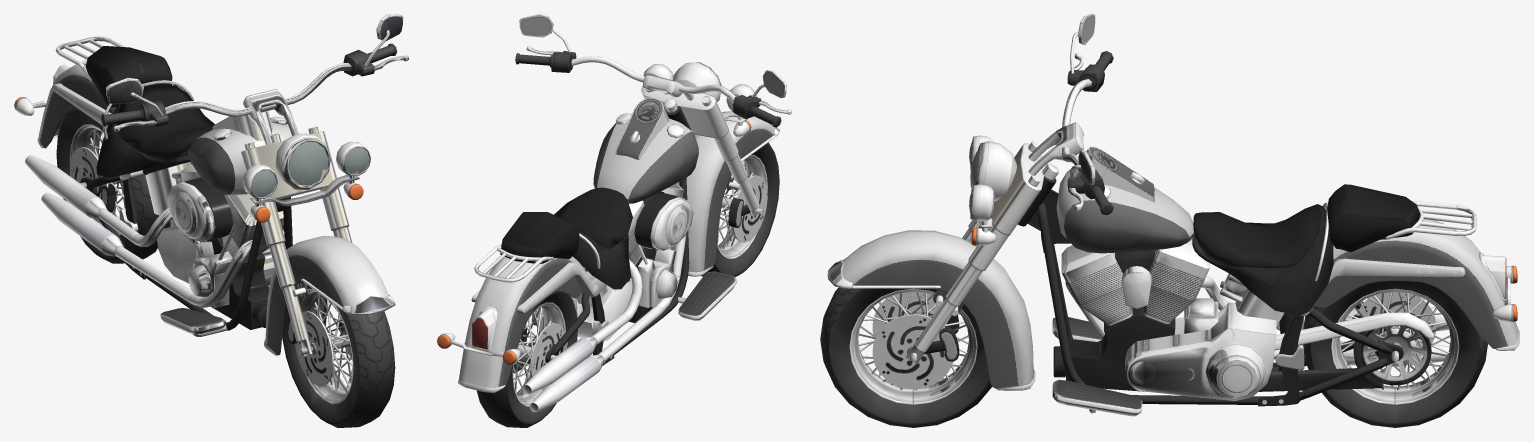
The model's file is Moto v1.fbx.
3 views of the same model, side by side, from view 1: azimuth 30°, elevation 25°; view 2: azimuth 150°, elevation 25°; view 3: azimuth 270°, elevation 25° (orthographic). The views are drawn at different scales.
Parts seen in each view (by area): view 1: Motorcycle; view 2: Motorcycle; view 3: Motorcycle.
Boxes of the visible parts, bbox=[...] form: Motorcycle: bbox=[14, 14, 408, 427]; Motorcycle: bbox=[437, 14, 791, 427]; Motorcycle: bbox=[820, 14, 1519, 427].
Bounding box in the file's own units: 194 × 198 × 369.
3 materials, 2 textured.
